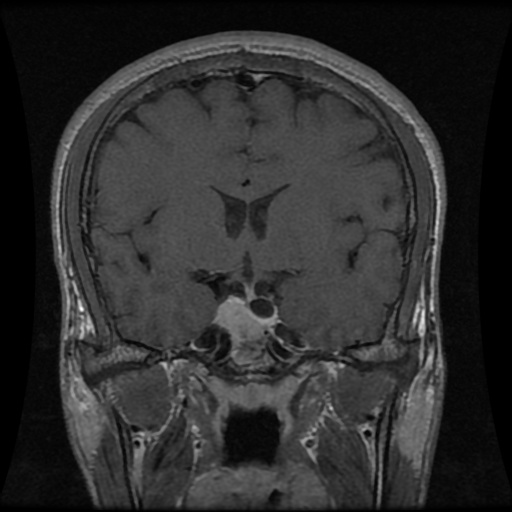pituitary: (216, 296, 264, 343)
